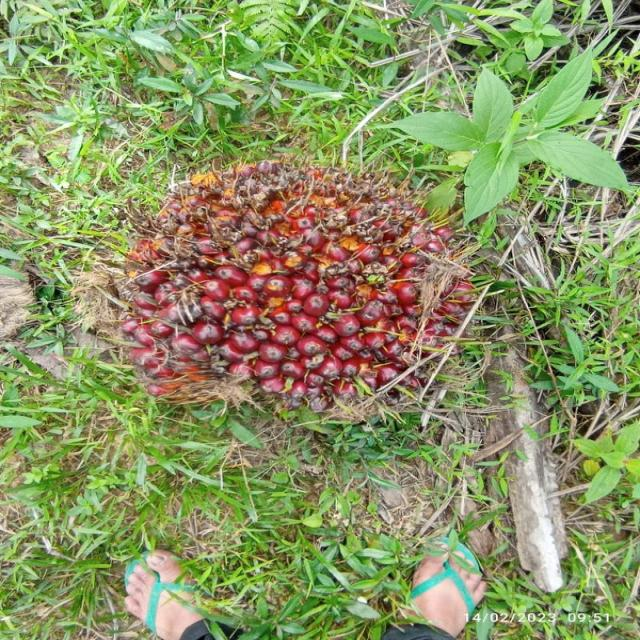fraksi 3: (92, 144, 495, 445)
